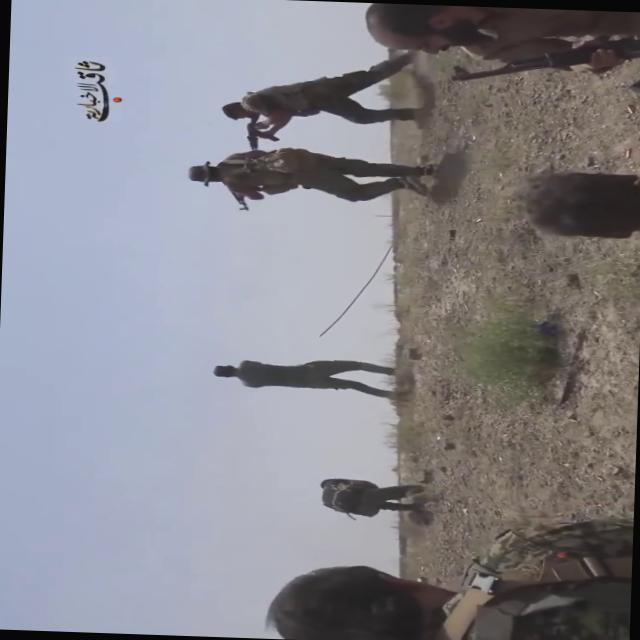long weapon: (441, 8, 639, 94), (243, 115, 276, 156)
